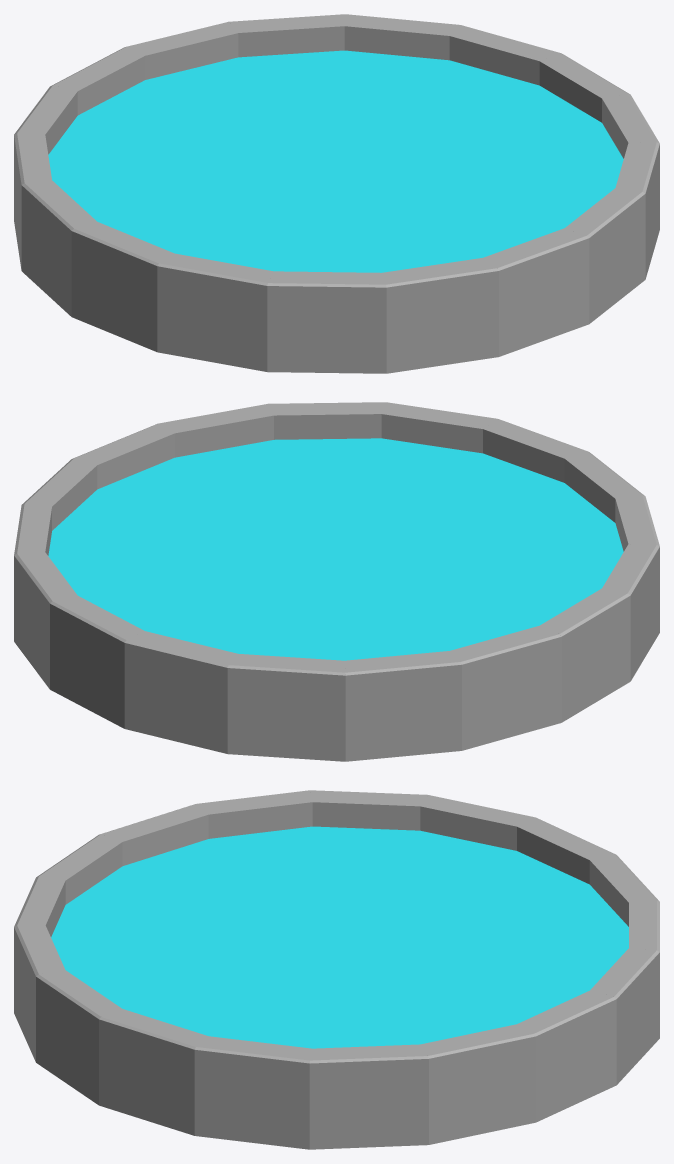
File: pool.fbx
The picture shows the model from 3 angles, top to bottom: view 1: azimuth 30°, elevation 25°; view 2: azimuth 150°, elevation 25°; view 3: azimuth 270°, elevation 25°; orthographic projection.
Visible parts, largest first — view 1: вода, бассейн; view 2: вода, бассейн; view 3: вода, бассейн.
Boxes of the visible parts, left/top/right/bottom form: вода: left=48, top=50, right=623, bottom=272; бассейн: left=14, top=14, right=659, bottom=373; вода: left=48, top=438, right=623, bottom=660; бассейн: left=14, top=402, right=659, bottom=761; вода: left=51, top=826, right=628, bottom=1048; бассейн: left=14, top=790, right=659, bottom=1149.
Size of the model in its own units: 1000 by 150 by 1000.
